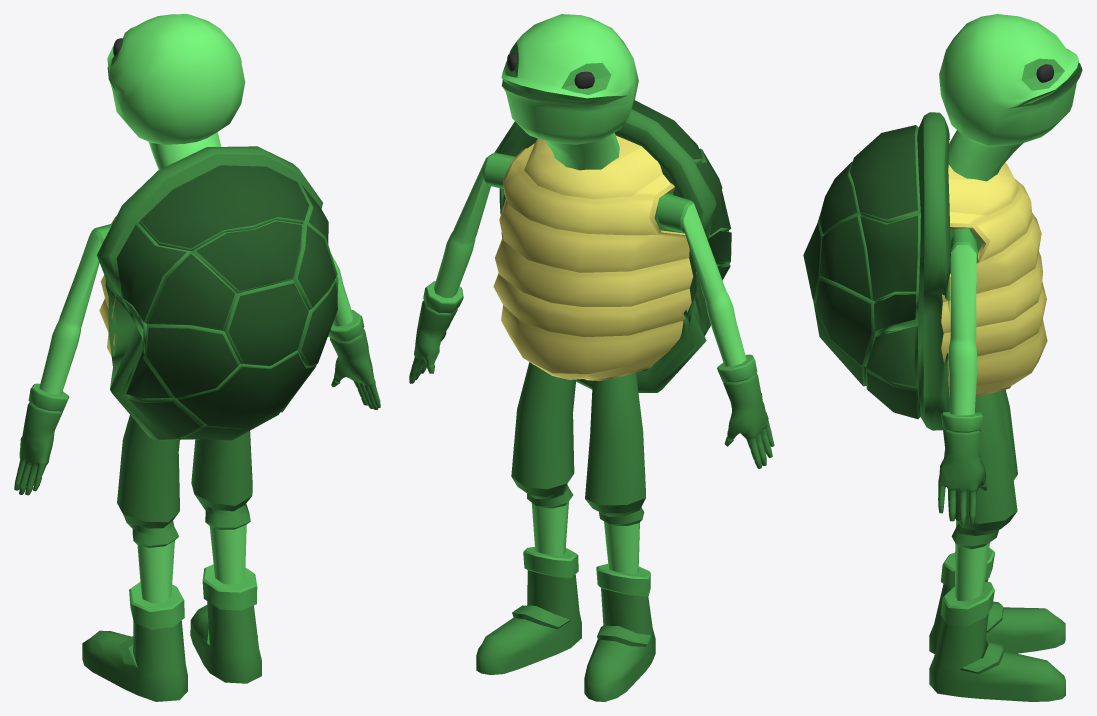
Rendered from Turtle.glb.
3 views of the same model, side by side, from view 1: azimuth 30°, elevation 25°; view 2: azimuth 150°, elevation 25°; view 3: azimuth 270°, elevation 25° (orthographic).
Parts seen in each view (by area): view 1: _100Avatars_182_CoolTurtle; view 2: _100Avatars_182_CoolTurtle; view 3: _100Avatars_182_CoolTurtle.
Boxes of the visible parts, bbox=[...] form: _100Avatars_182_CoolTurtle: bbox=[14, 14, 380, 701]; _100Avatars_182_CoolTurtle: bbox=[409, 14, 774, 701]; _100Avatars_182_CoolTurtle: bbox=[803, 14, 1082, 701].
Size of the model in its own units: 0.7345 by 1.28 by 0.5.
1 material, 1 textured.
